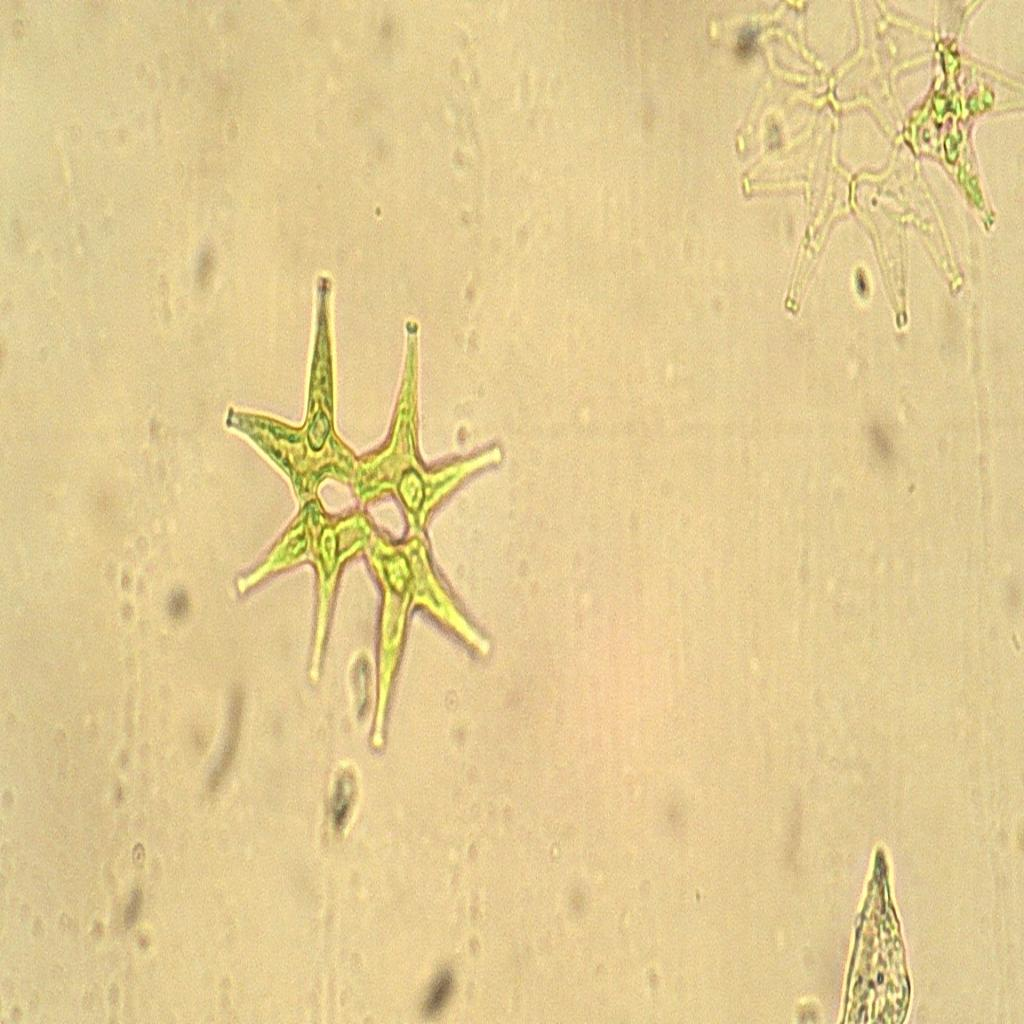Pediastrum_CF: (209, 250, 518, 764)
